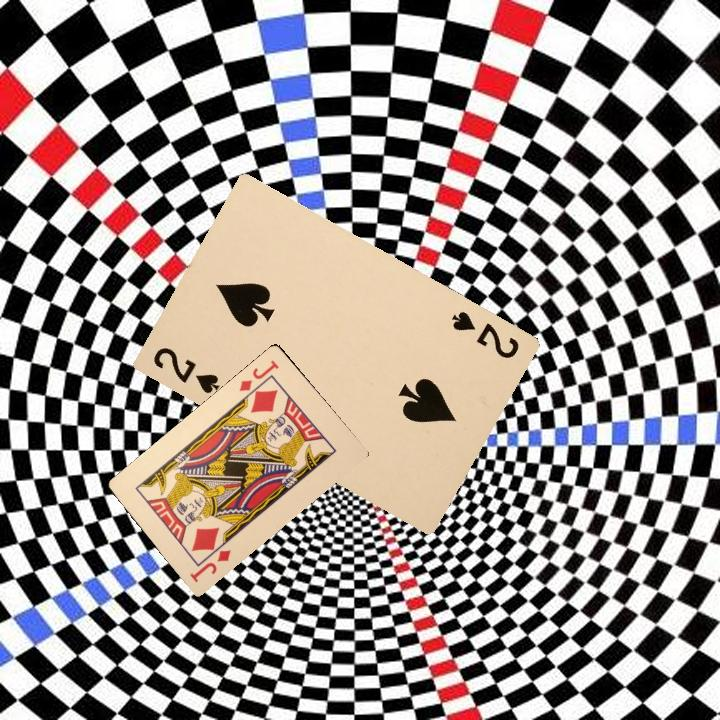2s: (447, 305, 522, 362), (149, 343, 222, 397)
Jd: (185, 546, 234, 585), (235, 356, 281, 394)
